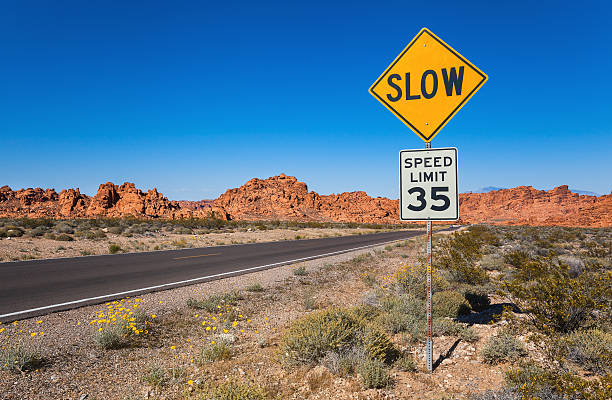SpeedLimitSign: (397, 145, 458, 220)
